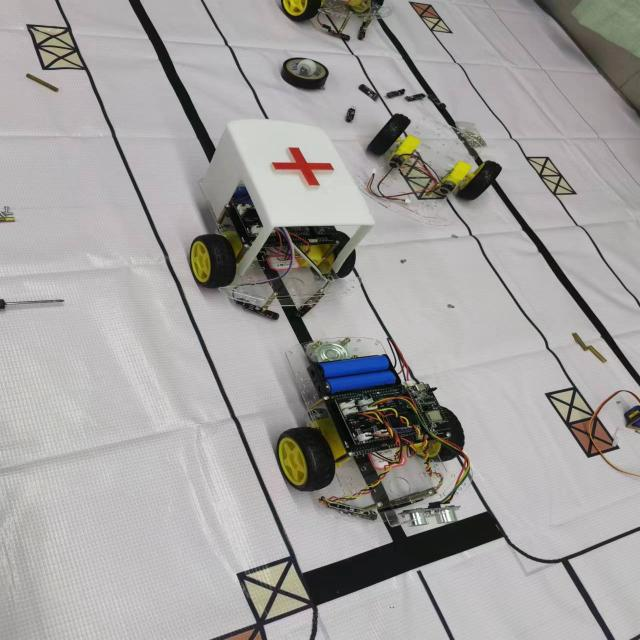RedCross: (270, 144, 337, 190)
